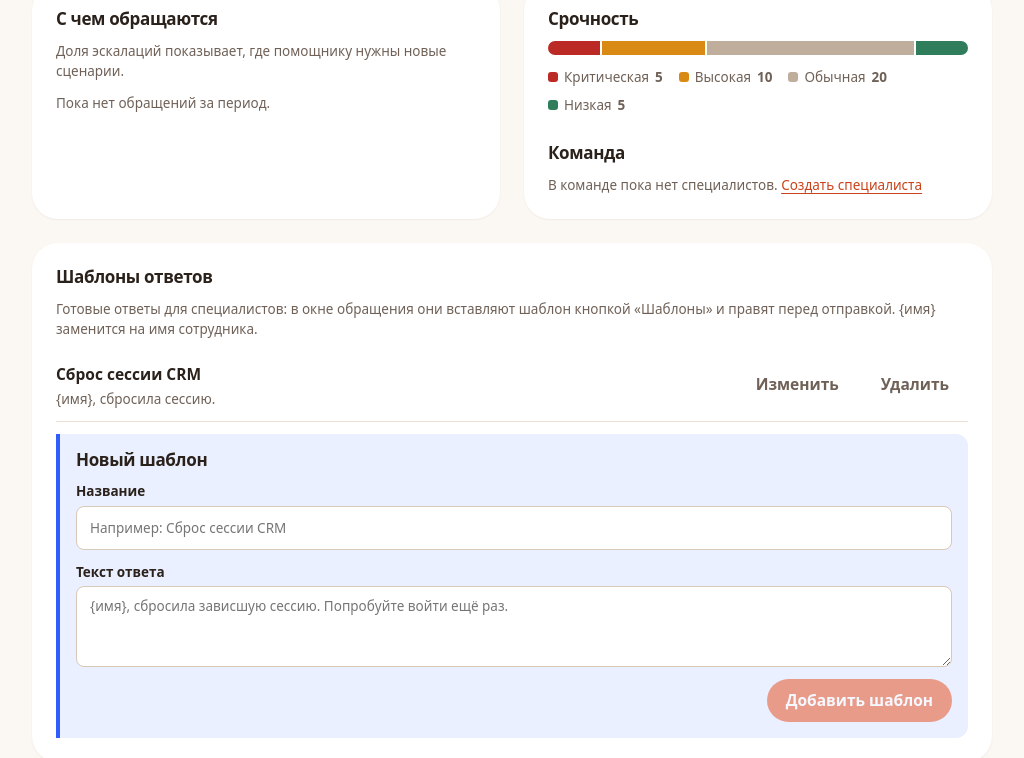
Scenario: AdminDashboard: reply templates › edits and deletes a template
(page scrolled)
Click the button with aria-label "Изменить «Сброс сессии CRM»" at (797, 385), box [737,363,858,407]
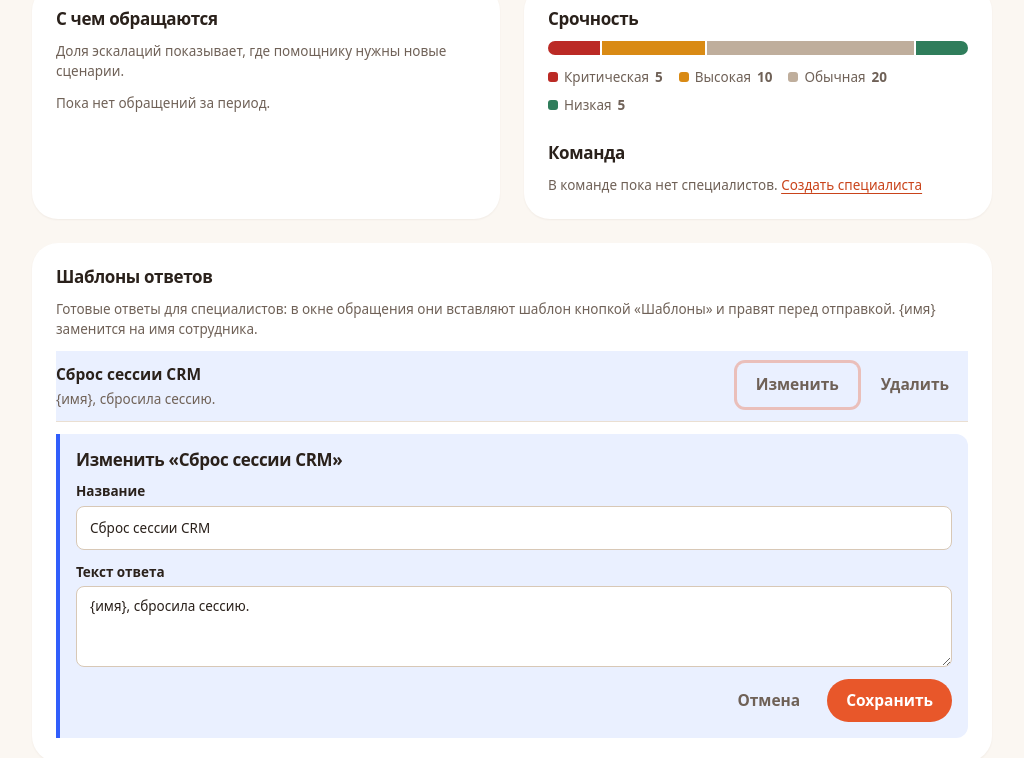
Replace the text in the field labelled "Название" with "Сброс сессии" at (514, 528), box [76,506,952,550]
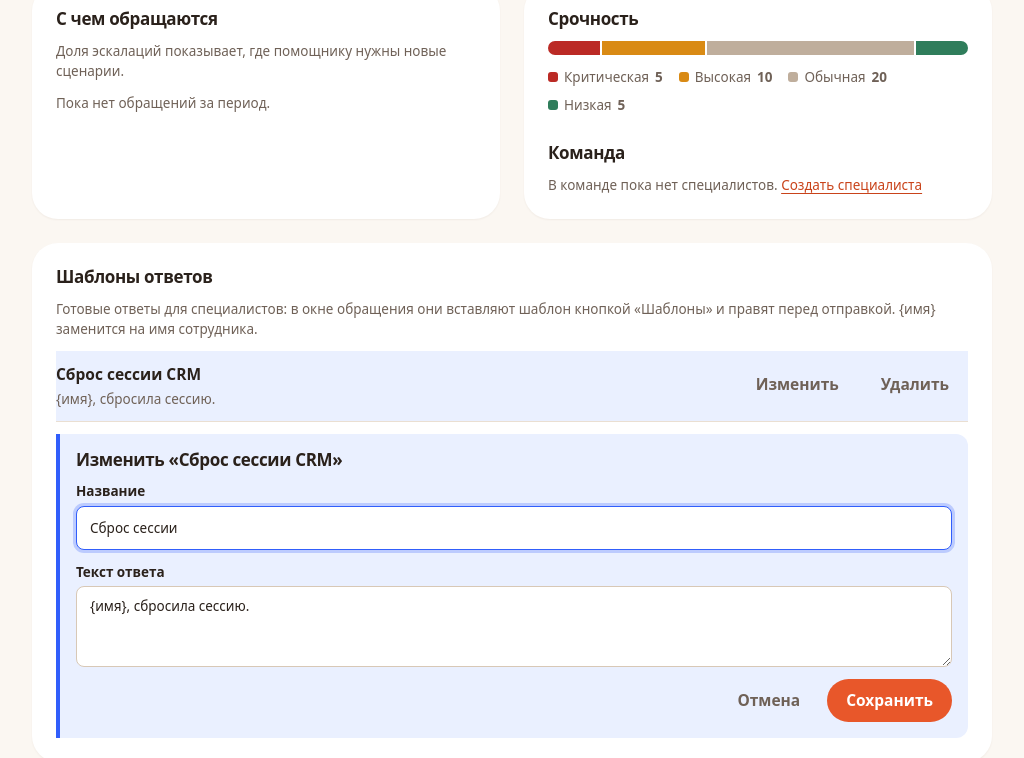
Click the button "Сохранить" at (890, 700), box [827,679,952,722]
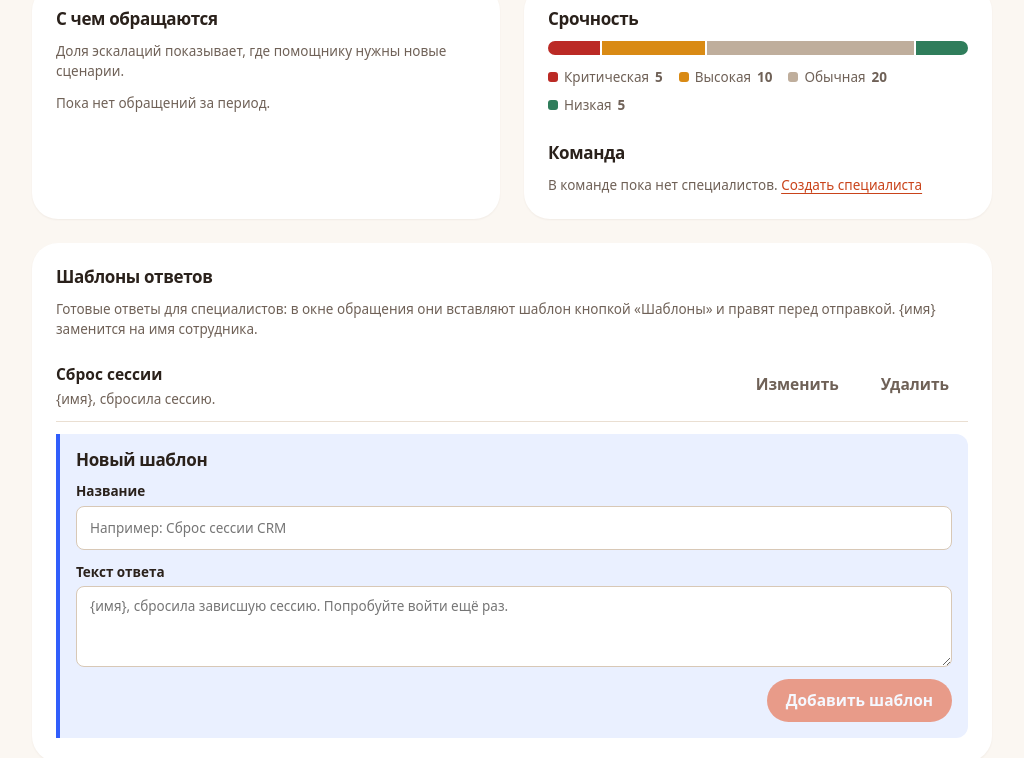
Check: the text "Сброс сессии" is shown, box [56,363,162,385]
Click the button with aria-label "Удалить «Сброс сессии»" at (915, 385), box [862,363,968,407]
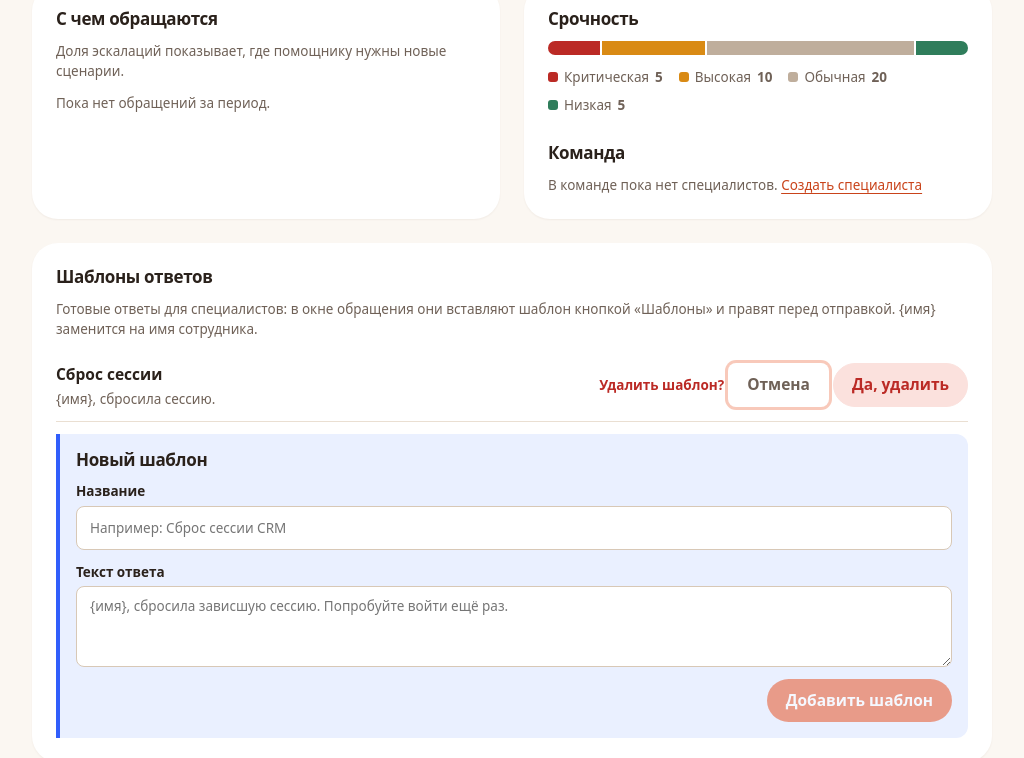
Click the button "Да, удалить" at (900, 385), box [833,363,968,407]
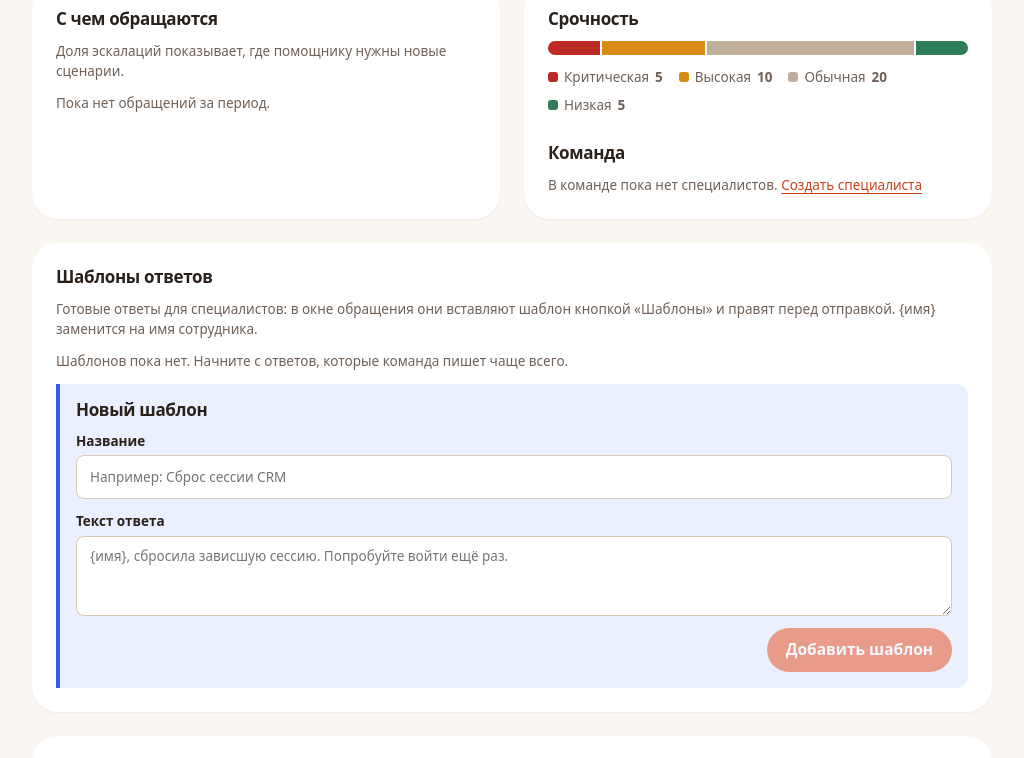
Check: the text "Шаблонов пока нет" is shown, box [56,352,568,370]
